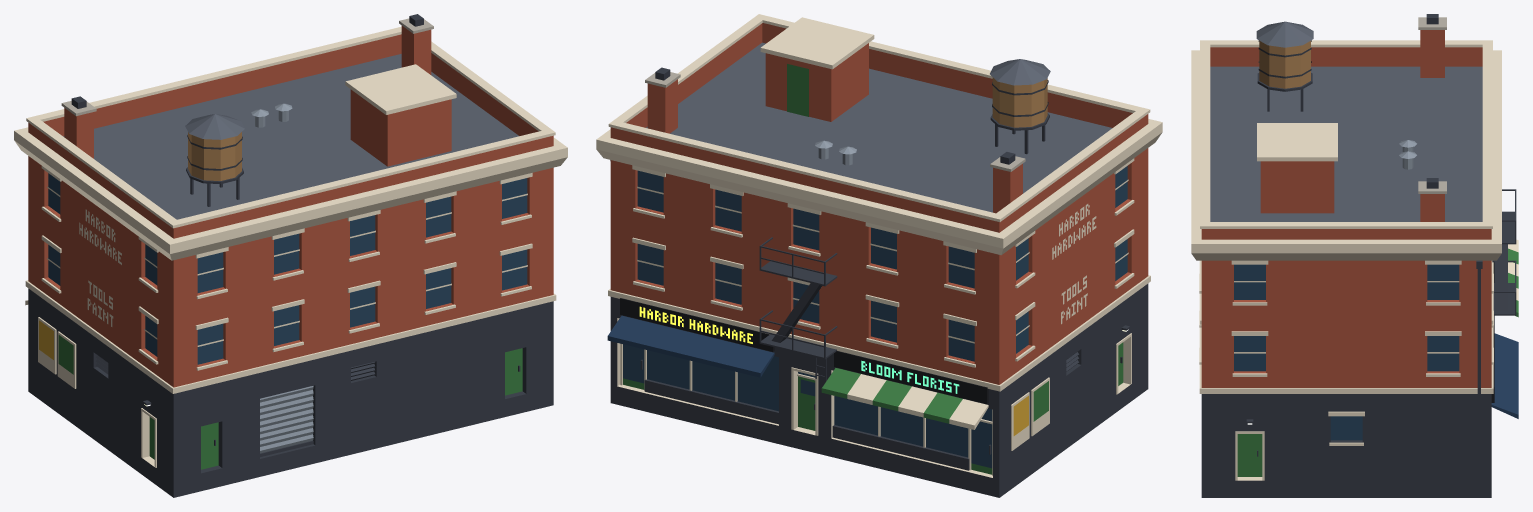
File: storefront_f.glb
3 renders of one model, left to right at view 1: azimuth 30°, elevation 25°; view 2: azimuth 150°, elevation 25°; view 3: azimuth 270°, elevation 25°, orthographic. The views are drawn at different scales.
Parts seen in each view (by area): view 1: Building, Building_Glass, Building_Detail; view 2: Building, Building_Detail, Building_Glass, Building_Neon; view 3: Building, Building_Detail, Building_Glass.
Part boxes in pixels (x1,y1,x2,y2): Building: [14, 14, 567, 497]; Building_Glass: [48, 173, 527, 364]; Building_Detail: [25, 103, 520, 445]; Building: [596, 14, 1162, 497]; Building_Detail: [607, 59, 1122, 454]; Building_Glass: [623, 166, 1127, 468]; Building_Neon: [639, 306, 959, 393]; Building: [1191, 14, 1501, 497]; Building_Detail: [1256, 21, 1518, 456]; Building_Glass: [1234, 264, 1459, 440].
Size of the model in its own units: 18.64 by 14.9 by 13.32.
